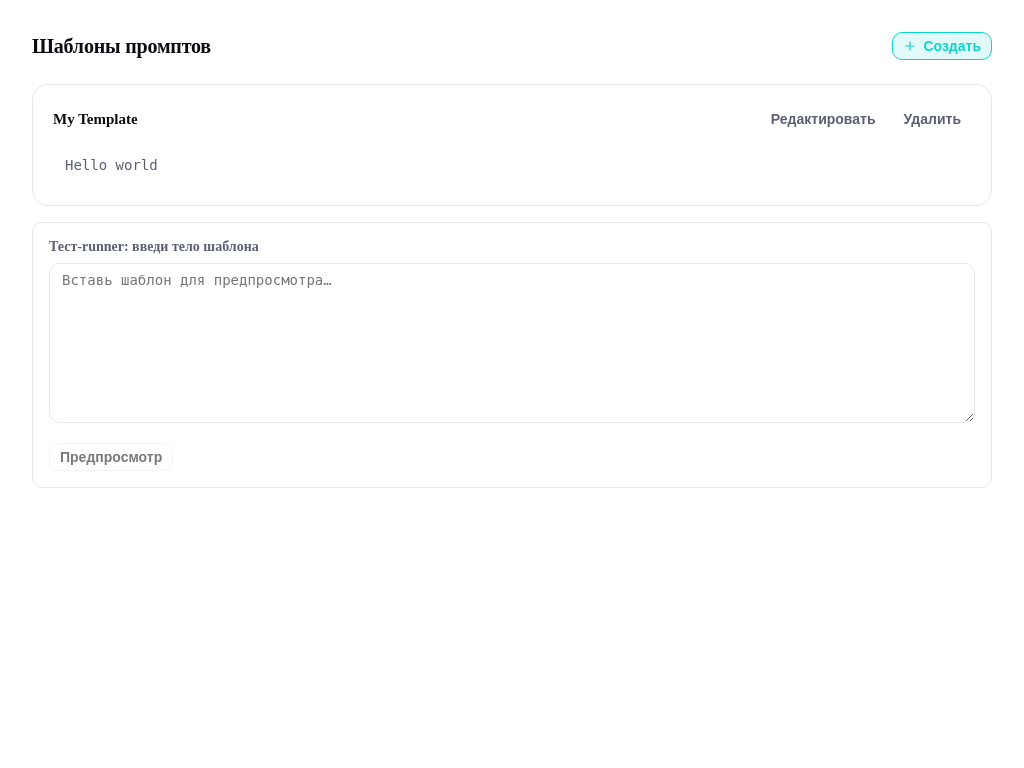
Test: Prompts — CRUD UI › Prompts_Edit_OpensEditorWithExistingValues
Click the button with test id "prompt-edit-t1" at (823, 119), box x1=761 y1=105 x2=886 y2=133
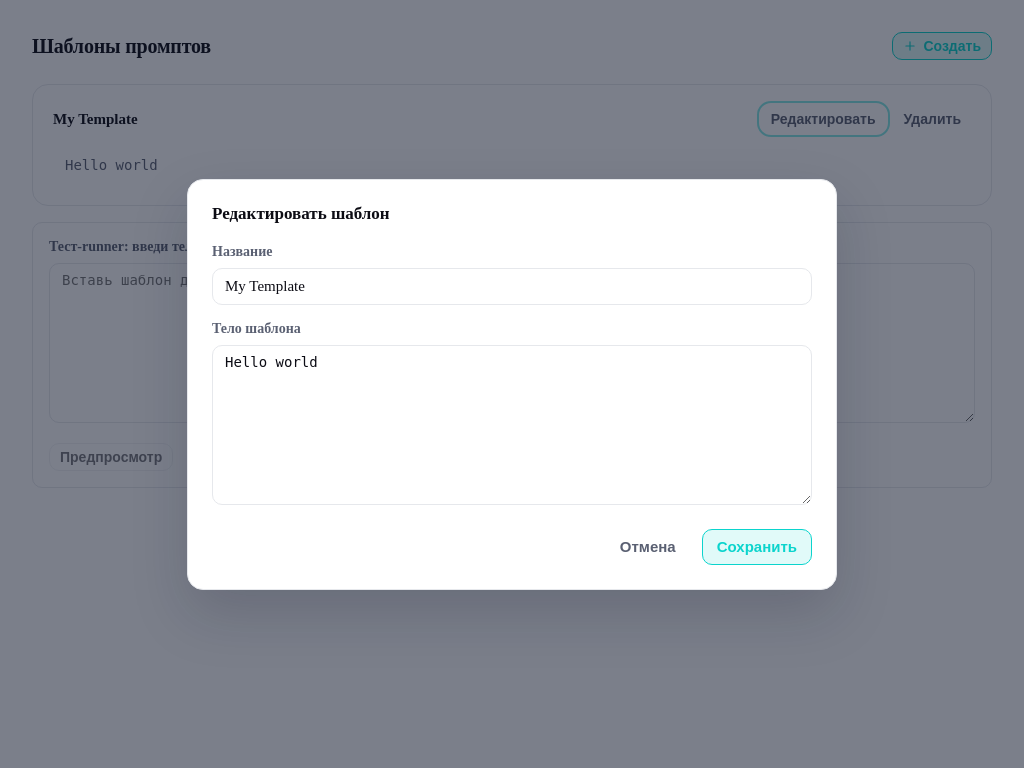
expect the field with test id "prompt-name-input" holds "My Template": met, box x1=213 y1=268 x2=811 y2=304
expect the text box with test id "prompt-body-textarea" holds "Hello world": met, box x1=212 y1=344 x2=812 y2=504
